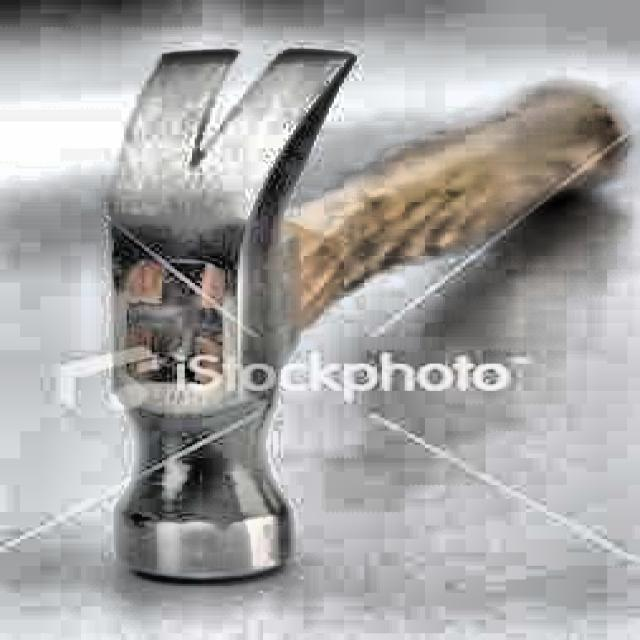hammer: (106, 48, 614, 582)
